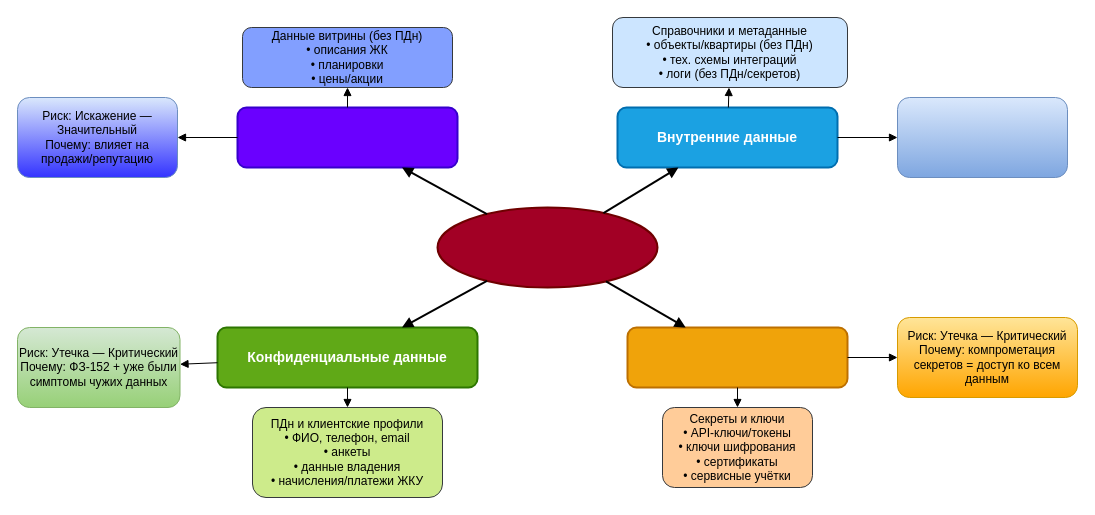
This 1095x515 diagram has some shape labels left out. Here are the shapes that lost their labels. From the top down, the centre of each, then its label:
At point 347,137: "Публичные данные".
At point 982,137: "Риск: Некачественные данные — Критический Почему: нет единого контроля data-flow".
At point 547,247: "Безопасность данных".
At point 737,357: "Секретные данные".
